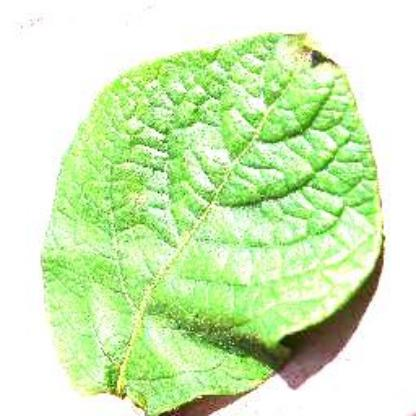Healthy-plant: (32, 23, 390, 415)
